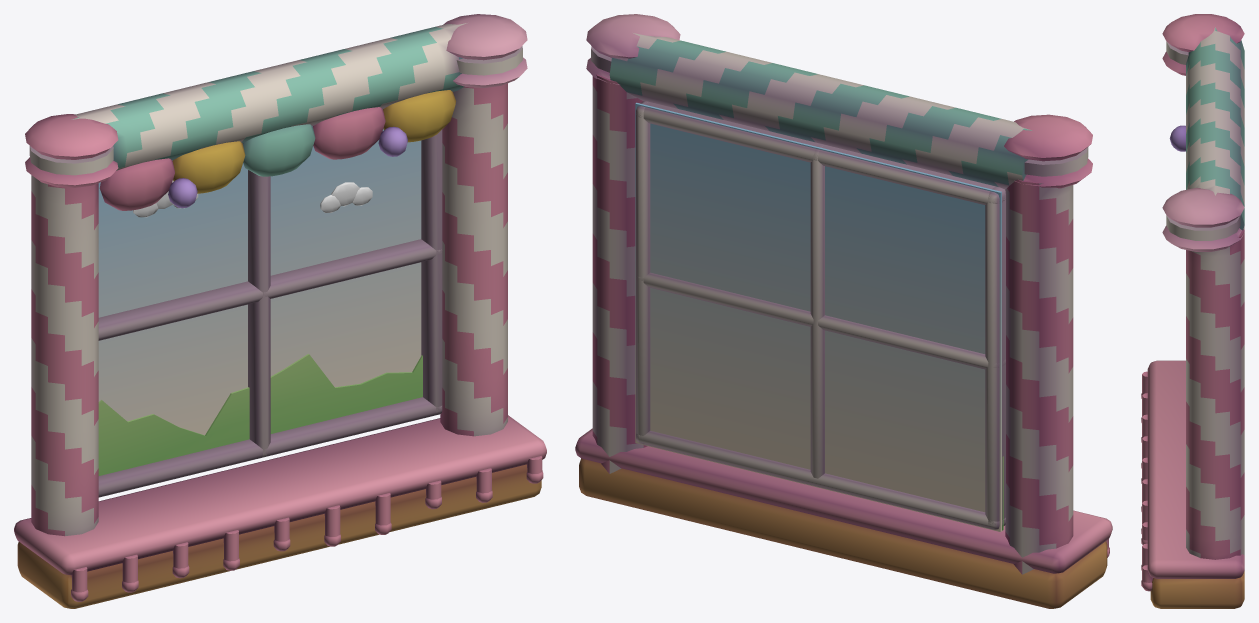
File: window_candy.glb
3 views of the same model, side by side, from view 1: azimuth 30°, elevation 25°; view 2: azimuth 150°, elevation 25°; view 3: azimuth 270°, elevation 25° (orthographic). The views are drawn at different scales.
Visible parts, largest first — view 1: window_candy, window_candy_glass; view 2: window_candy, window_candy_glass; view 3: window_candy.
Boxes of the visible parts, <box> form: window_candy: <box>14,14,546,608</box>; window_candy_glass: <box>98,126,422,475</box>; window_candy: <box>575,14,1112,608</box>; window_candy_glass: <box>635,102,1003,531</box>; window_candy: <box>1141,14,1244,608</box>.
Size of the model in its own units: 1.67 by 1.5 by 0.3517.
